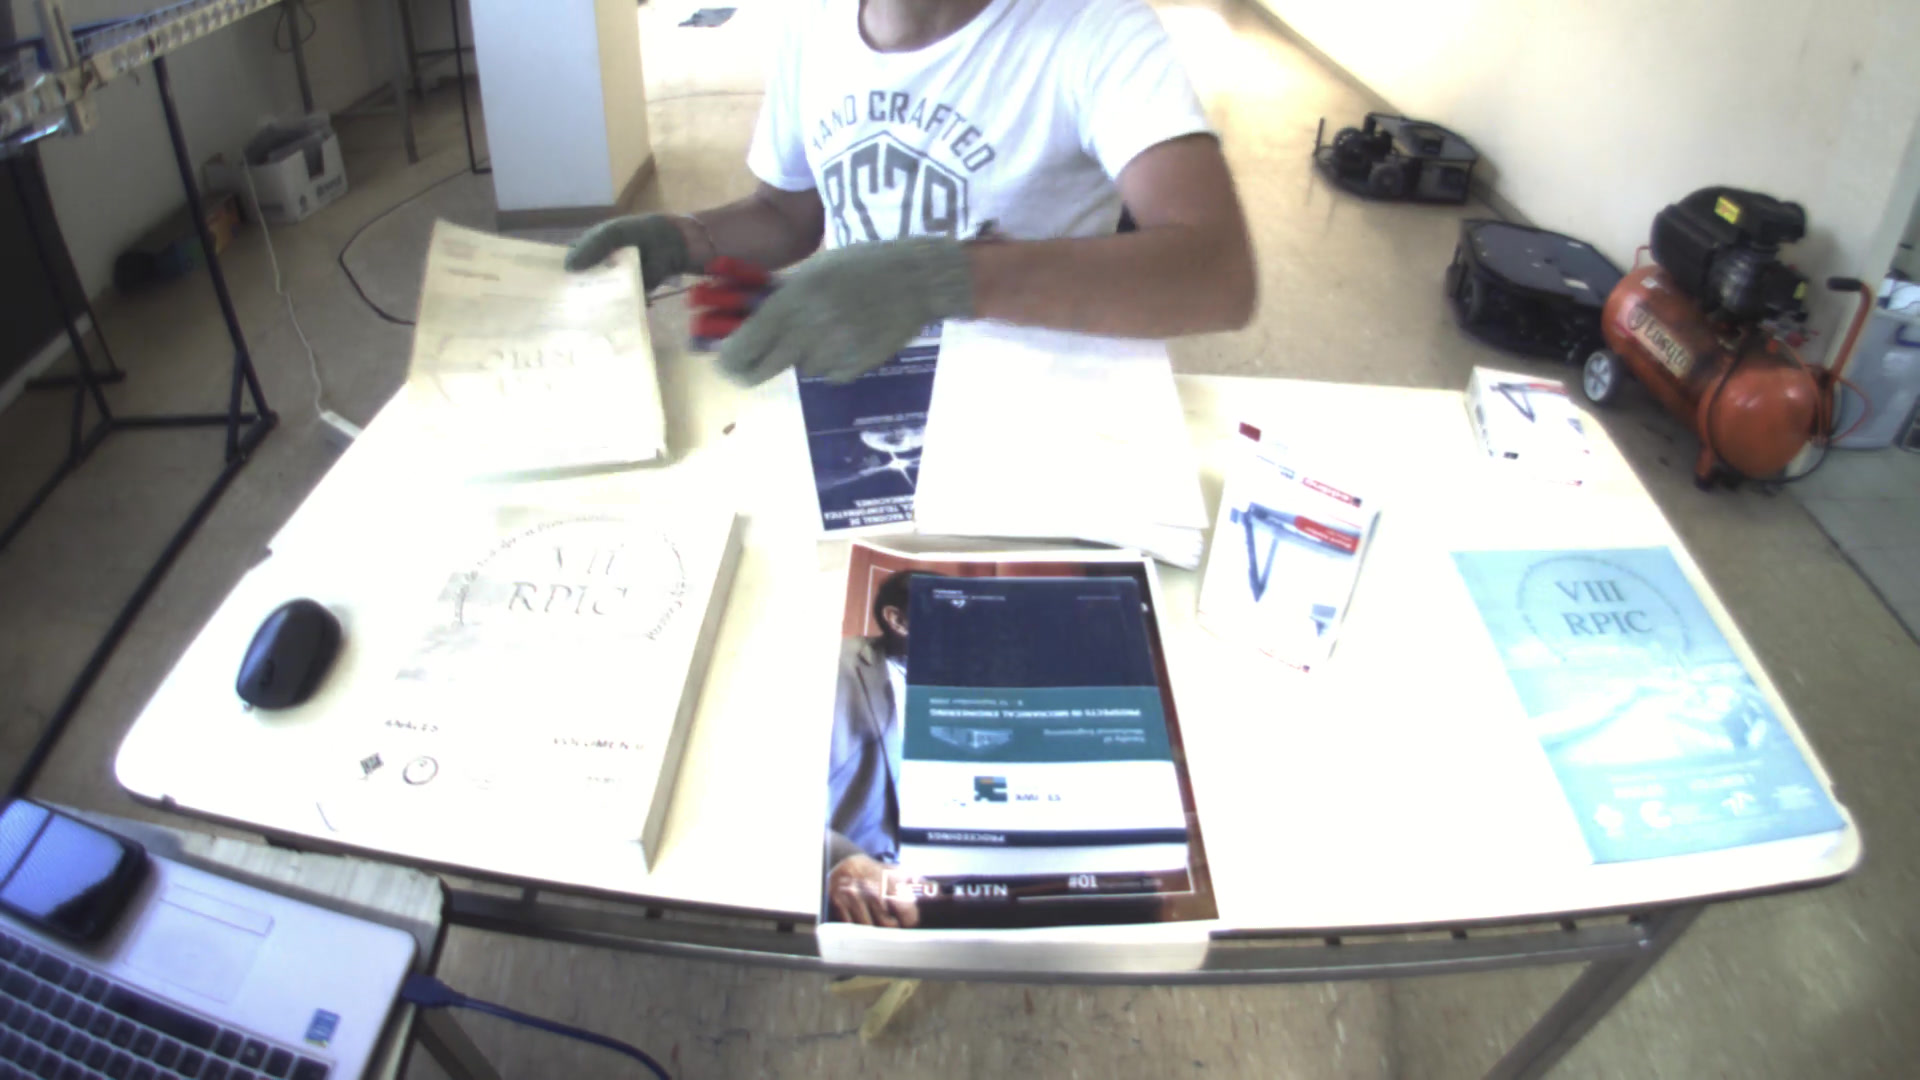hand: (694, 224, 972, 389), (551, 198, 717, 287)
